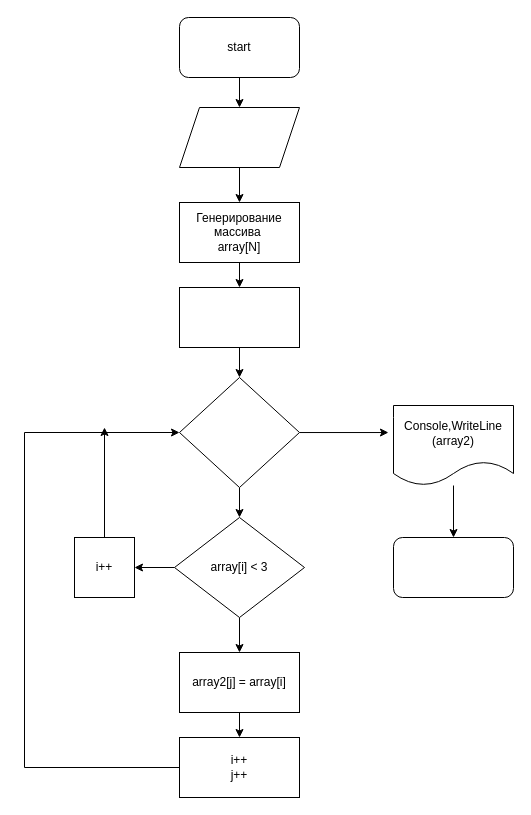
Some shapes in this 531 by 815 pixel diagram are drawn without their labels. The centre of each missing label's shape, as x and y in pixels:
i < array.Length: the point at 239,432
i = 0 j = 0: the point at 239,317
the end: the point at 453,567
ввести количество элментов N: the point at 239,137
